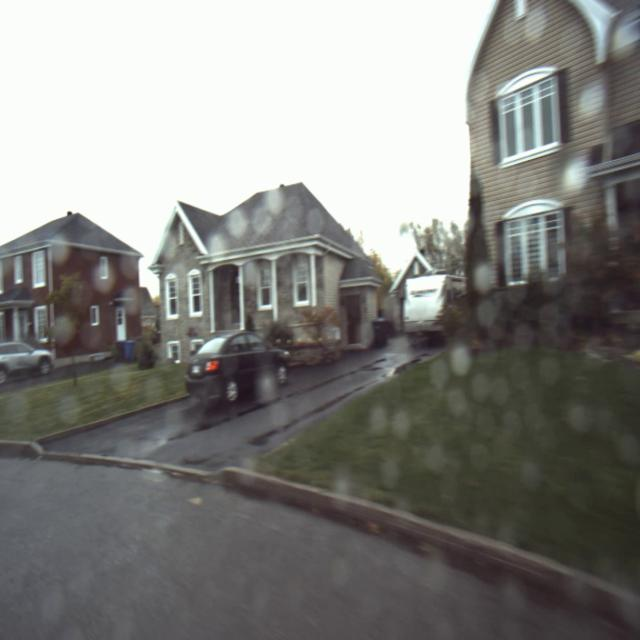car: (172, 319, 294, 402)
